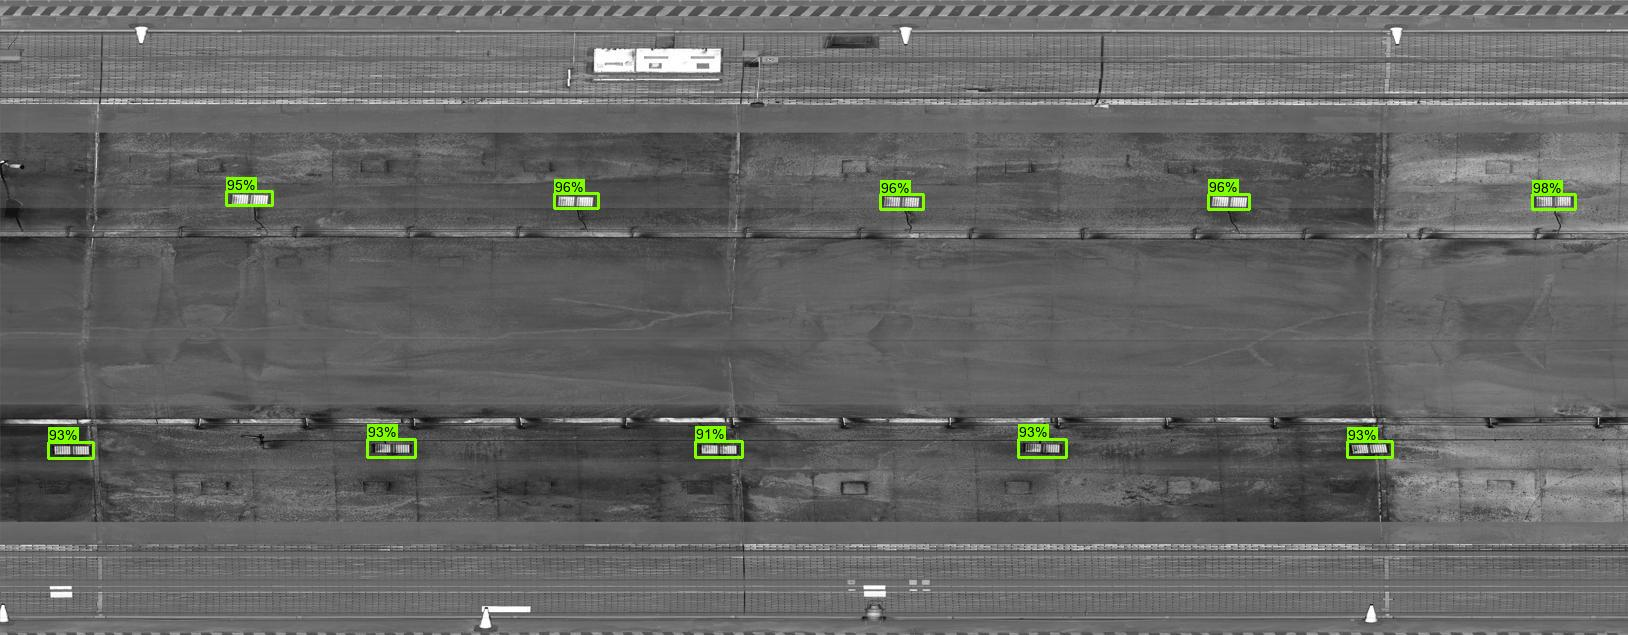light: (43, 441, 94, 462), (222, 188, 274, 209), (367, 436, 418, 457), (547, 192, 599, 213), (691, 440, 743, 461), (874, 193, 926, 214), (1016, 439, 1068, 460), (1201, 191, 1253, 212), (1340, 437, 1392, 458), (1524, 192, 1576, 213)
